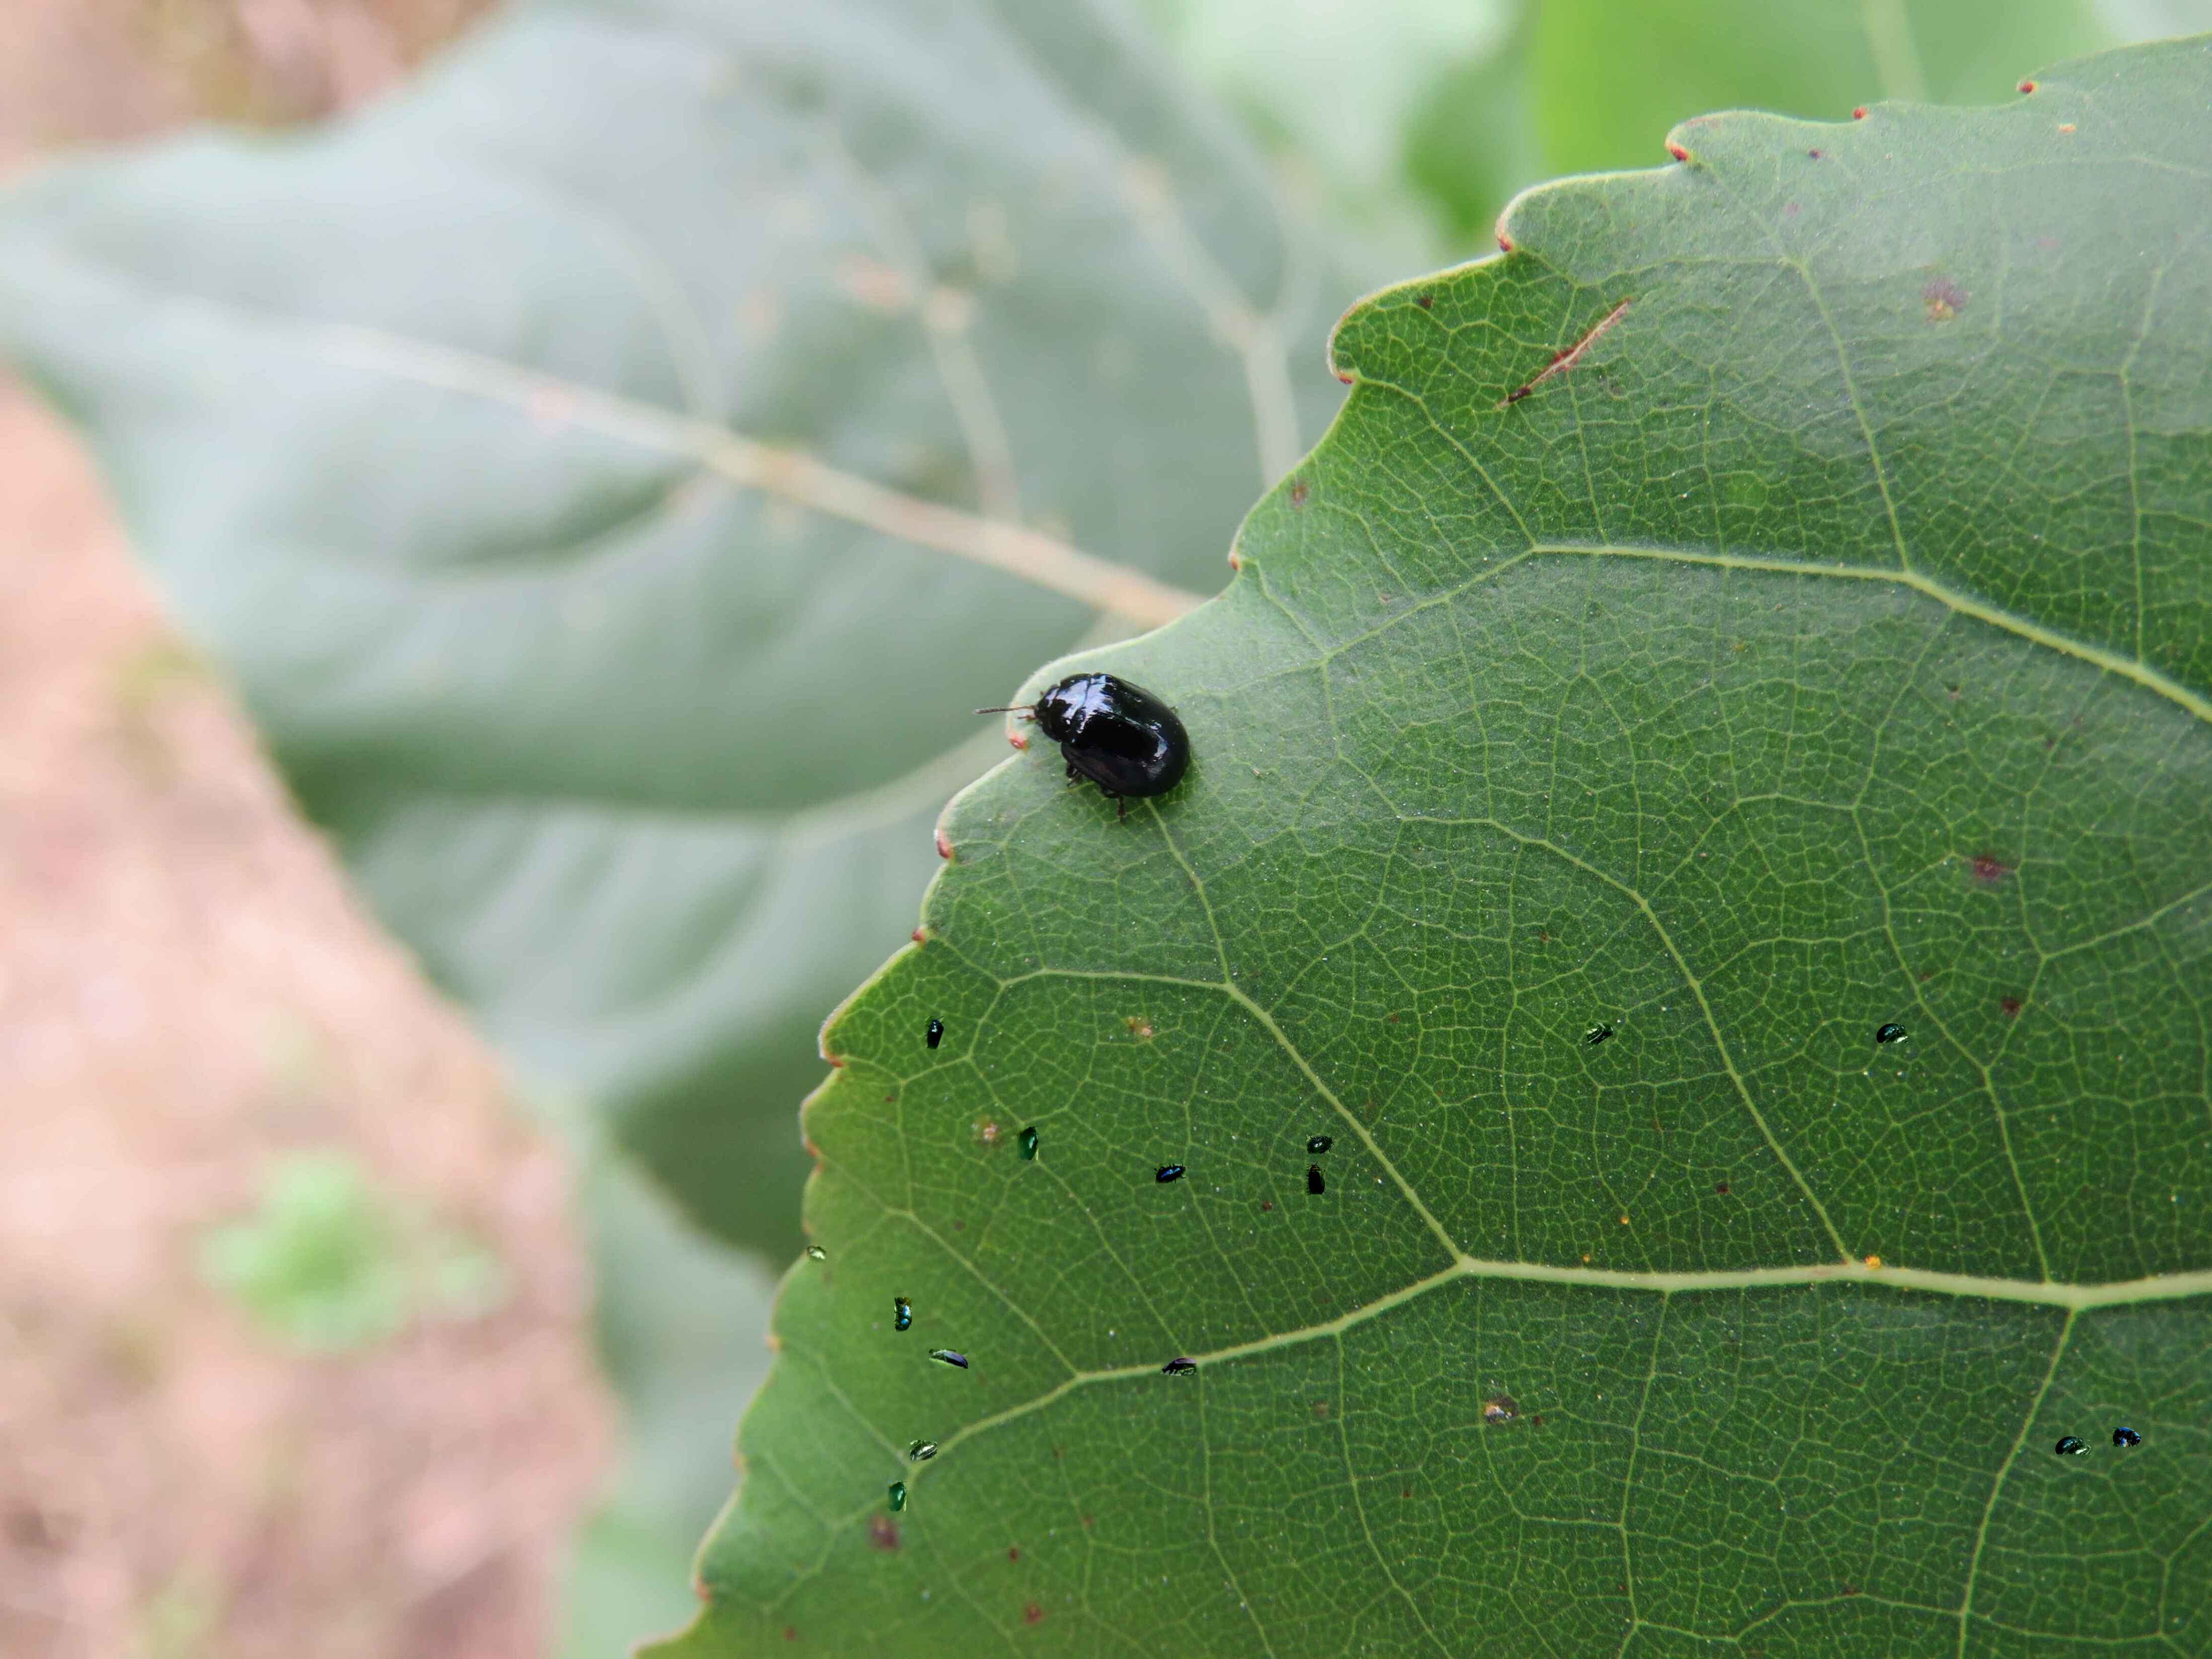liulanyejia: (1021, 669, 1190, 821), (928, 1349, 968, 1370), (1017, 1126, 1040, 1161), (1160, 1356, 1197, 1377), (2055, 1434, 2092, 1455), (1876, 1021, 1909, 1044), (894, 1297, 913, 1333), (1153, 1162, 1186, 1183), (887, 1480, 907, 1513), (2113, 1425, 2142, 1448), (925, 1016, 944, 1051), (1306, 1161, 1325, 1195), (1587, 1021, 1613, 1046), (909, 1439, 937, 1460), (1306, 1134, 1334, 1154), (806, 1244, 827, 1263)
